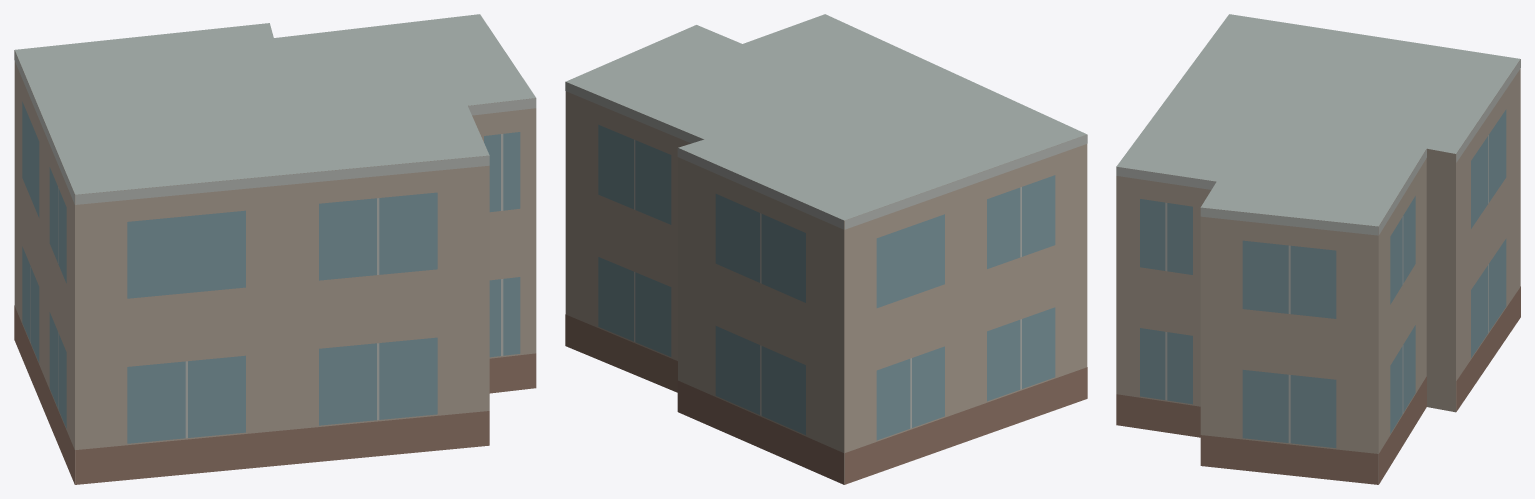
File: survey-upis-32813813.glb
3 views of the same model, side by side, from view 1: azimuth 30°, elevation 25°; view 2: azimuth 150°, elevation 25°; view 3: azimuth 270°, elevation 25° (orthographic). The views are drawn at different scales.
Visible parts, largest first — view 1: survey-upis-32813813.tmp; view 2: survey-upis-32813813.tmp; view 3: survey-upis-32813813.tmp.
Boxes of the visible parts, x1,y1,x2,y2 form: survey-upis-32813813.tmp: (14, 14, 536, 484); survey-upis-32813813.tmp: (565, 14, 1087, 484); survey-upis-32813813.tmp: (1116, 14, 1520, 484).
Bounding box in the file's own units: 12.18 × 6.9 × 9.8.
